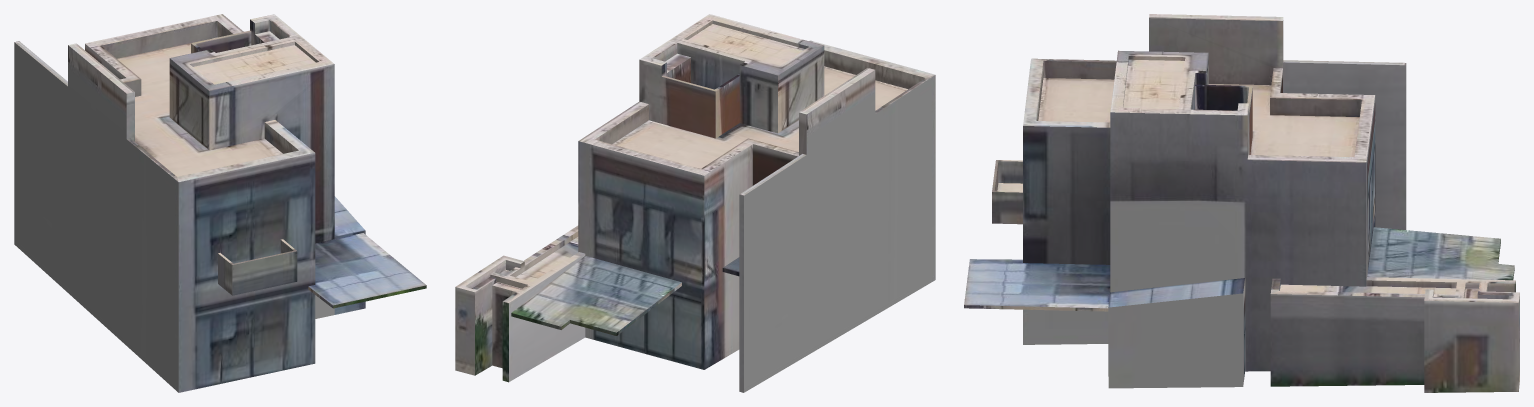
3 views of the same model, side by side, from view 1: azimuth 30°, elevation 25°; view 2: azimuth 150°, elevation 25°; view 3: azimuth 270°, elevation 25° (orthographic). The views are drawn at different scales.
Parts seen in each view (by area): view 1: B285834029601062A0; view 2: B285834029601062A0; view 3: B285834029601062A0.
Part boxes in pixels (x1,y1,x2,y2): B285834029601062A0: (14, 14, 426, 392); B285834029601062A0: (455, 14, 935, 392); B285834029601062A0: (964, 14, 1519, 392).
Bounding box in the file's own units: 12.14 × 11.51 × 21.78.
Materials: 1 (1 with a texture image).
